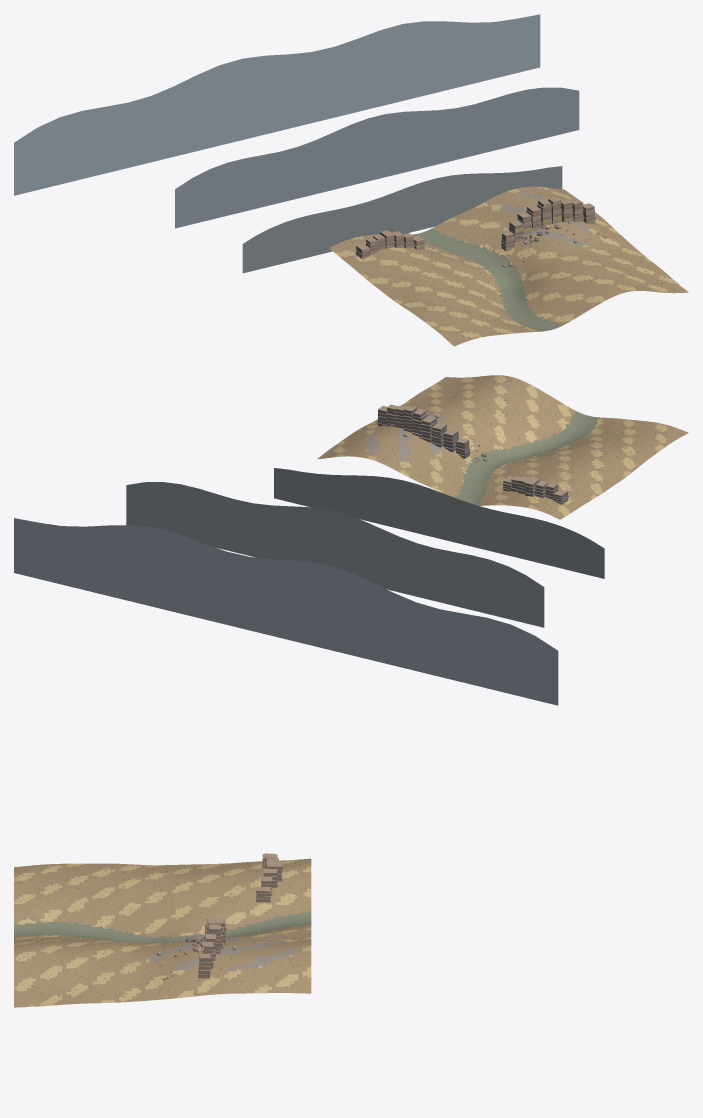
File: chukar-vertical-slice.glb
The picture shows the model from 3 angles, top to bottom: view 1: azimuth 30°, elevation 25°; view 2: azimuth 150°, elevation 25°; view 3: azimuth 270°, elevation 25°; orthographic projection. The views are drawn at different scales.
Visible parts, largest first — view 1: PROTO_DistantRange_3, PROTO_Terrain, PROTO_DistantRange_2, PROTO_DistantRange_1, PROTO_HeroCliff, PROTO_Bunchgrass, PROTO_SecondaryCliff; view 2: PROTO_DistantRange_3, PROTO_Terrain, PROTO_DistantRange_2, PROTO_DistantRange_1, PROTO_HeroCliff, PROTO_Bunchgrass, PROTO_SecondaryCliff; view 3: PROTO_Terrain, PROTO_Bunchgrass, PROTO_HeroCliff, PROTO_SecondaryCliff.
Part boxes in pixels (x1,y1,x2,y2): PROTO_DistantRange_3: [14, 14, 540, 195]; PROTO_Terrain: [329, 186, 688, 346]; PROTO_DistantRange_2: [175, 87, 579, 228]; PROTO_DistantRange_1: [242, 166, 562, 273]; PROTO_HeroCliff: [501, 197, 595, 251]; PROTO_Bunchgrass: [337, 187, 675, 341]; PROTO_SecondaryCliff: [356, 230, 424, 258]; PROTO_DistantRange_3: [14, 518, 558, 705]; PROTO_Terrain: [317, 375, 688, 519]; PROTO_DistantRange_2: [126, 482, 544, 627]; PROTO_DistantRange_1: [274, 468, 604, 578]; PROTO_HeroCliff: [377, 404, 469, 458]; PROTO_Bunchgrass: [326, 375, 680, 511]; PROTO_SecondaryCliff: [503, 476, 568, 504]; PROTO_Terrain: [14, 858, 311, 1007]; PROTO_Bunchgrass: [17, 860, 307, 1001]; PROTO_HeroCliff: [198, 918, 226, 978]; PROTO_SecondaryCliff: [256, 853, 282, 902].
Bounding box in the file's own units: 560 × 82.8 × 522.
